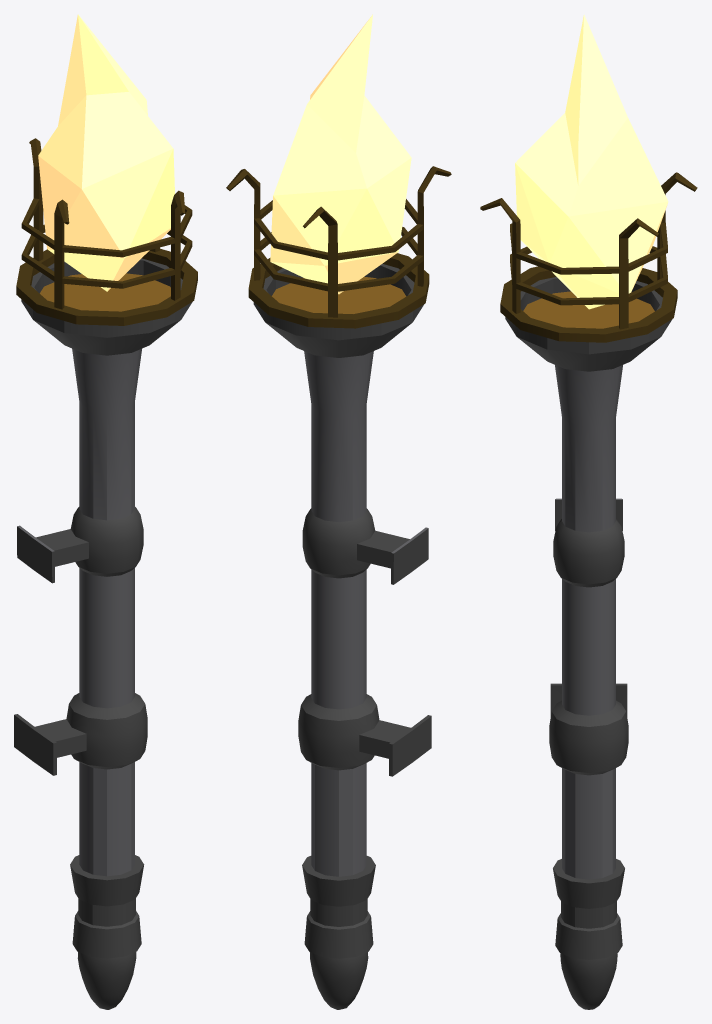
File: Torch.fbx
The picture shows the model from 3 angles, left to right: view 1: azimuth 30°, elevation 25°; view 2: azimuth 150°, elevation 25°; view 3: azimuth 270°, elevation 25°; orthographic projection. The views are drawn at different scales.
Parts seen in each view (by area): view 1: Cylinder.005; view 2: Cylinder.005; view 3: Cylinder.005.
Boxes of the visible parts, left/top/right/bottom form: Cylinder.005: left=14, top=14, right=197, bottom=1009; Cylinder.005: left=226, top=14, right=451, bottom=1009; Cylinder.005: left=480, top=14, right=697, bottom=1009.
Bounding box in the file's own units: 44.25 × 270 × 54.3.
